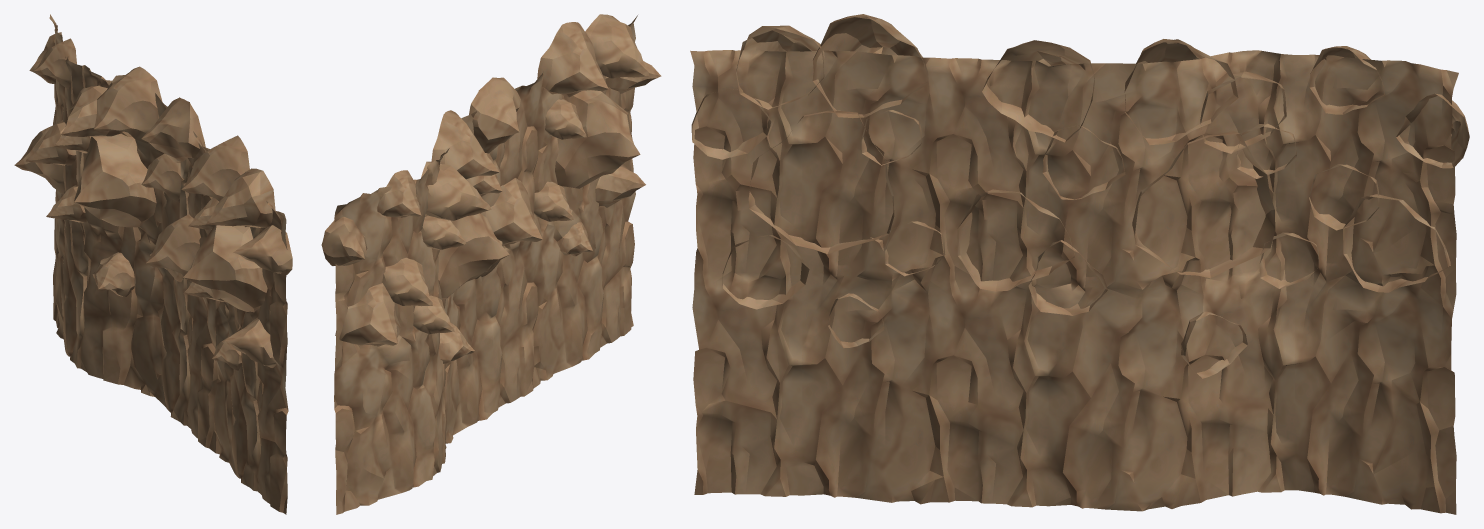
File: SM_ENV_KNFRST_Cliff_Fb.FBX
The picture shows the model from 3 angles, left to right: view 1: azimuth 30°, elevation 25°; view 2: azimuth 150°, elevation 25°; view 3: azimuth 270°, elevation 25°; orthographic projection. The views are drawn at different scales.
Parts seen in each view (by area): view 1: SM_ENV_KNFRST_Cliff_Fb; view 2: SM_ENV_KNFRST_Cliff_Fb; view 3: SM_ENV_KNFRST_Cliff_Fb.
Part boxes in pixels (<box>): SM_ENV_KNFRST_Cliff_Fb: <box>14,14,292,514</box>; SM_ENV_KNFRST_Cliff_Fb: <box>321,14,661,514</box>; SM_ENV_KNFRST_Cliff_Fb: <box>690,14,1469,514</box>.
Size of the model in its own units: 958 by 3286 by 4772.
